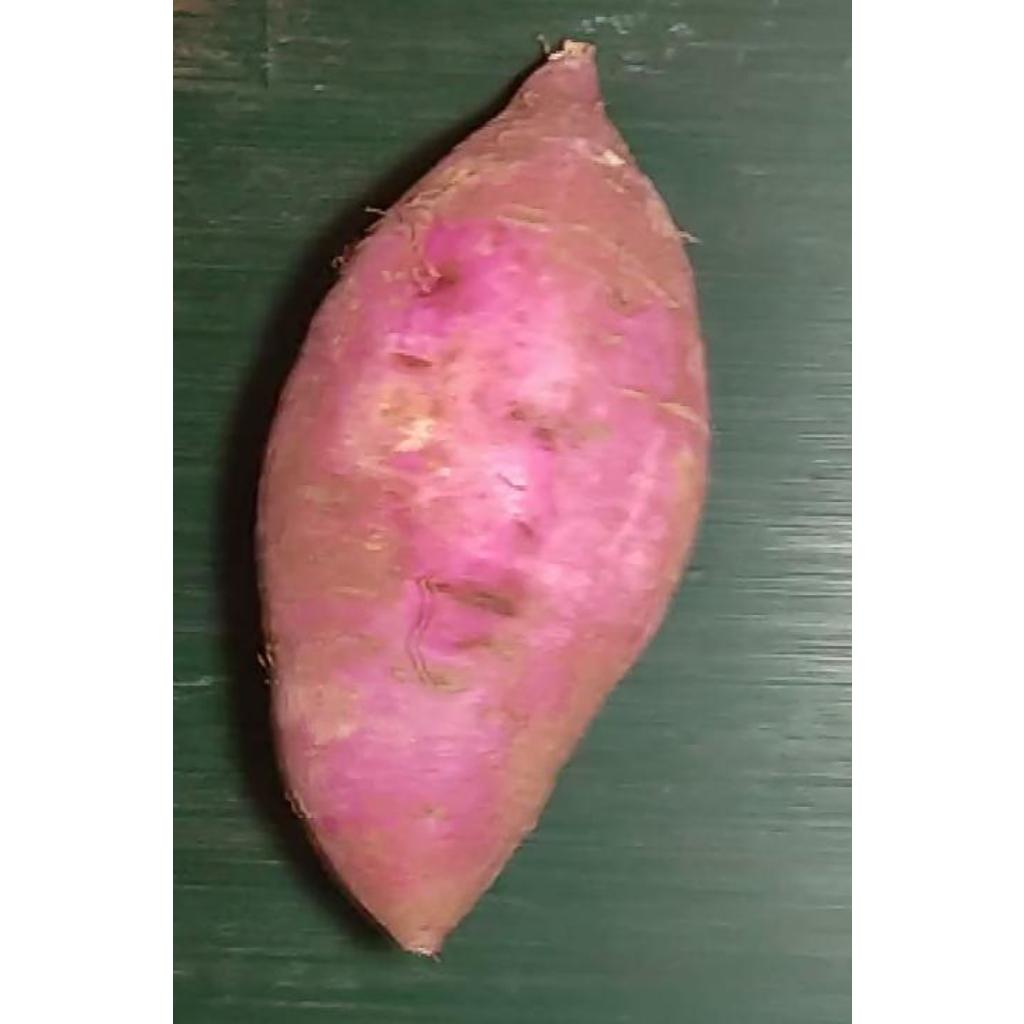Sweet Potato: (255, 41, 711, 962)
